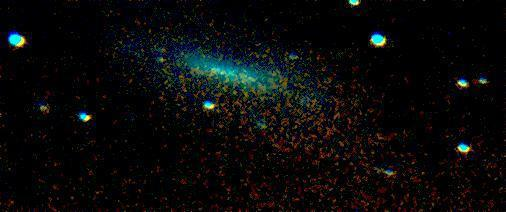star: (144, 45, 174, 75)
